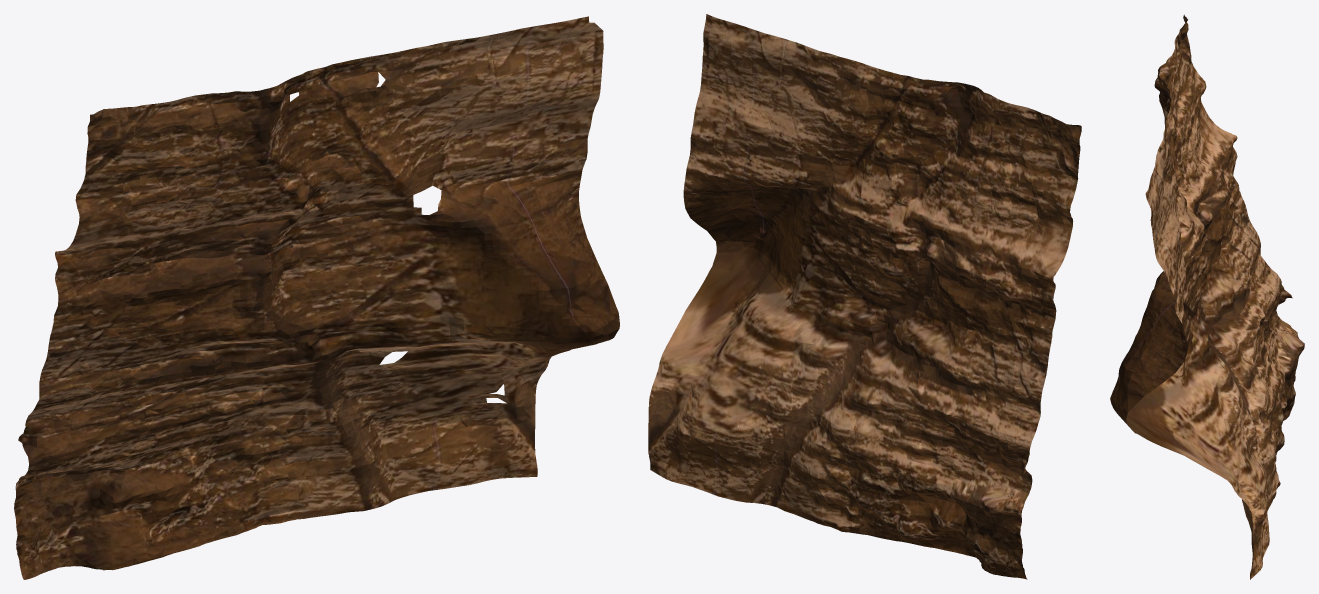
3 views of the same model, side by side, from view 1: azimuth 30°, elevation 25°; view 2: azimuth 150°, elevation 25°; view 3: azimuth 270°, elevation 25° (orthographic). The views are drawn at different scales.
Bounding box in the file's own units: 1.04 × 1.04 × 0.4778.
Materials: 3 (3 with a texture image).
